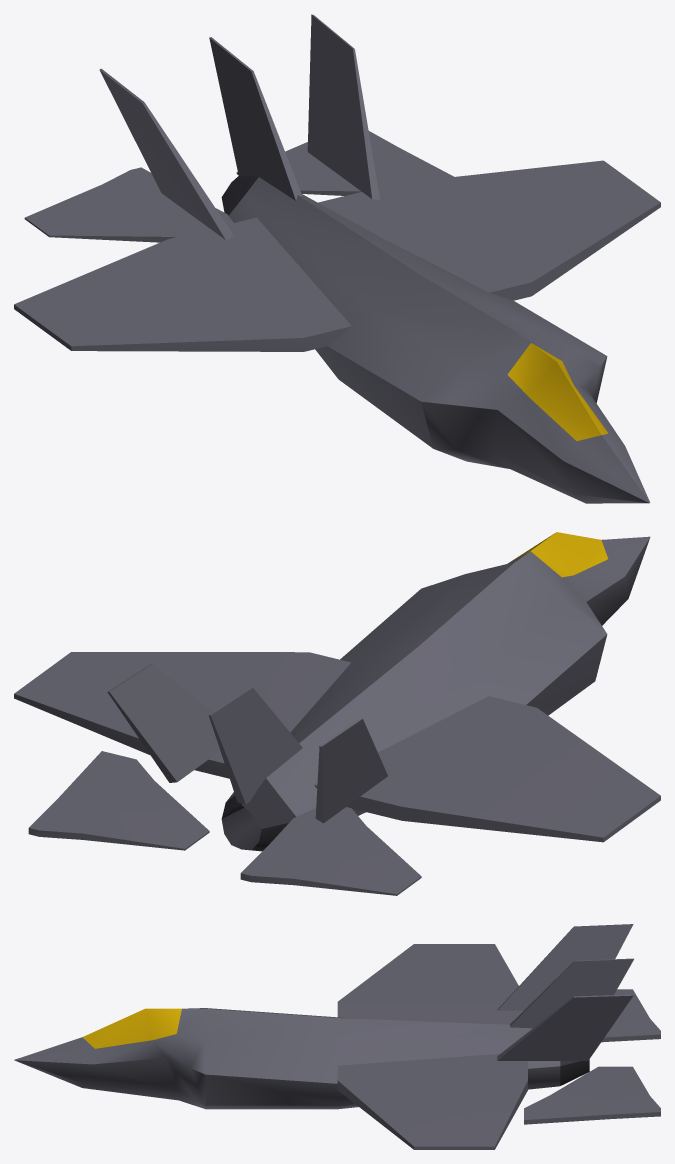
The picture shows the model from 3 angles, top to bottom: view 1: azimuth 30°, elevation 25°; view 2: azimuth 150°, elevation 25°; view 3: azimuth 270°, elevation 25°; orthographic projection. The views are drawn at different scales.
Parts seen in each view (by area): view 1: f35wings03, f35Cabin-matMetal, f35wings04, f35wings01, f35wings02, f35Wings05, f35Cabin-matGlass, f35Wings06, f35Cabin-matMetalDark; view 2: f35wings03, f35Cabin-matMetal, f35Wings06, f35wings01, f35wings04, f35wings02, f35Wings05, f35Cabin-matMetalDark, f35Cabin-matGlass; view 3: f35Cabin-matMetal, f35wings03, f35Wings06, f35wings04, f35Wings05, f35wings02, f35Cabin-matGlass, f35wings01, f35Cabin-matMetalDark.
Part boxes in pixels (x1,y1,x2,y2): f35wings03: [14, 160, 660, 351]; f35Cabin-matMetal: [228, 177, 650, 503]; f35wings04: [307, 14, 379, 199]; f35wings01: [24, 167, 233, 242]; f35wings02: [209, 37, 302, 200]; f35Wings05: [99, 68, 233, 239]; f35Cabin-matGlass: [507, 343, 608, 440]; f35Wings06: [236, 131, 453, 195]; f35Cabin-matMetalDark: [221, 175, 258, 215]; f35wings03: [14, 652, 660, 842]; f35Cabin-matMetal: [226, 536, 650, 816]; f35Wings06: [28, 751, 209, 850]; f35wings01: [240, 807, 421, 895]; f35wings04: [107, 664, 220, 782]; f35wings02: [208, 687, 302, 804]; f35Wings05: [315, 718, 387, 823]; f35Cabin-matMetalDark: [221, 778, 295, 851]; f35Cabin-matGlass: [510, 532, 607, 577]; f35Cabin-matMetal: [14, 1008, 560, 1109]; f35wings03: [337, 944, 527, 1149]; f35Wings06: [524, 1066, 660, 1124]; f35wings04: [497, 994, 633, 1060]; f35Wings05: [497, 924, 633, 1010]; f35wings02: [510, 958, 633, 1028]; f35Cabin-matGlass: [82, 1008, 181, 1048]; f35wings01: [601, 989, 660, 1042]; f35Cabin-matMetalDark: [560, 1059, 589, 1085].
Size of the model in its own units: 273 by 83.88 by 368.
